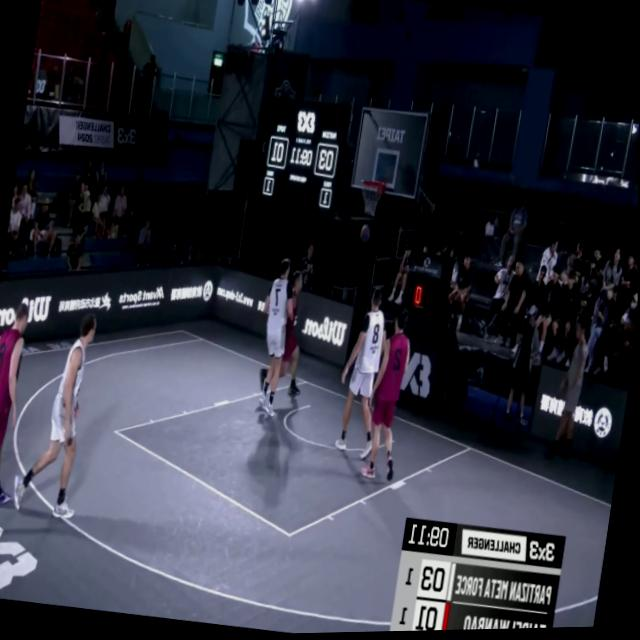ball: (357, 224, 374, 252)
hoop: (357, 179, 385, 220)
player: (15, 311, 101, 525), (332, 284, 396, 466), (359, 307, 418, 489), (0, 294, 41, 523), (252, 258, 301, 419), (272, 273, 316, 404)
